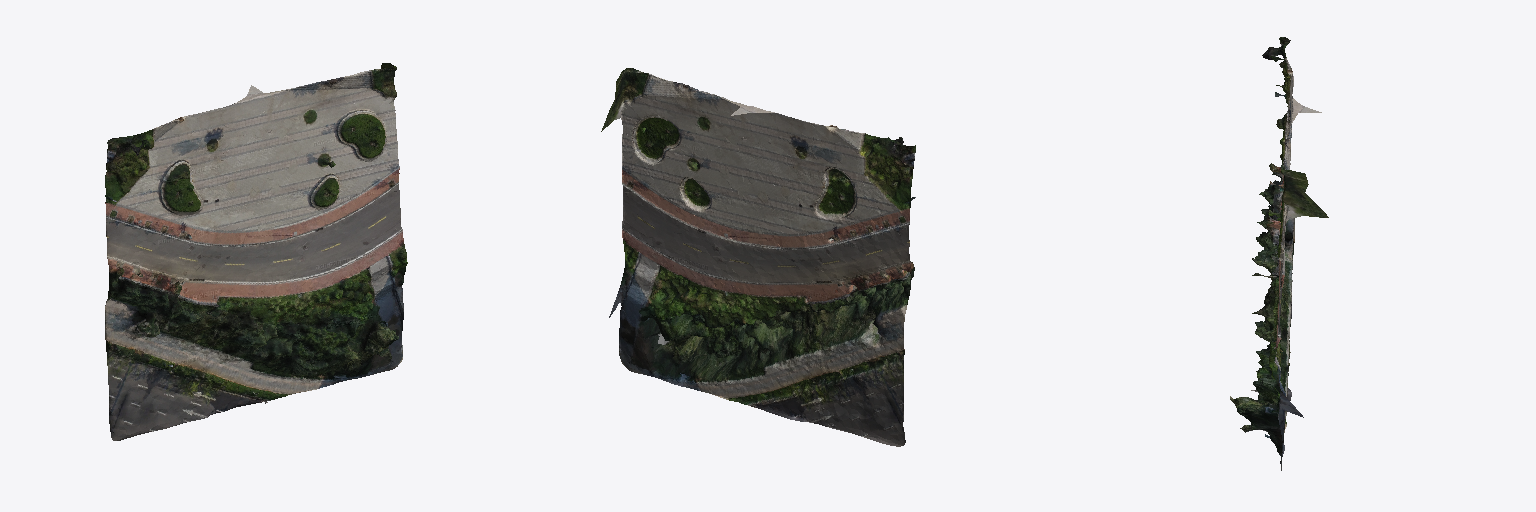
3 views of the same model, side by side, from view 1: azimuth 30°, elevation 25°; view 2: azimuth 150°, elevation 25°; view 3: azimuth 270°, elevation 25° (orthographic).
Visible parts, largest first — view 1: Mesh; view 2: Mesh; view 3: Mesh.
Boxes of the visible parts, x1,y1,x2,y2 form: Mesh: [105, 63, 407, 440]; Mesh: [601, 68, 915, 446]; Mesh: [1230, 37, 1328, 470].
Size of the model in its own units: 61.42 by 61.63 by 18.09.
Materials: 1 (1 with a texture image).